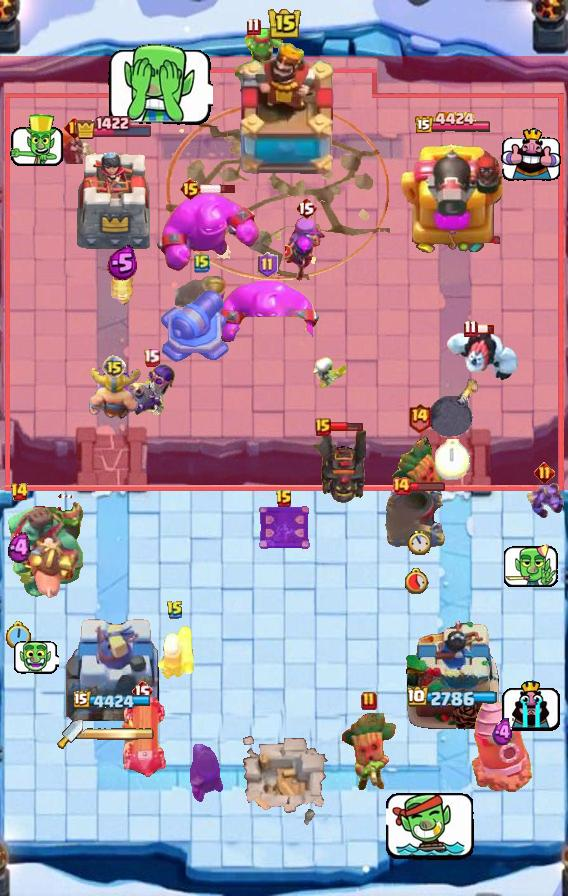archer-evolution: (308, 424, 366, 506)
baby-dragon: (427, 377, 478, 439)
bar: (66, 611, 162, 731)
battle-healer: (115, 697, 169, 779)
bomb-tower: (175, 274, 229, 328), (190, 742, 226, 802)
clone: (153, 191, 261, 273), (211, 280, 323, 346)
electro-spirit: (107, 245, 138, 281), (8, 532, 31, 564), (492, 717, 514, 746)
elixir: (435, 440, 470, 481), (6, 621, 32, 651), (403, 566, 429, 593), (409, 530, 432, 555)
emote: (200, 183, 237, 195), (328, 421, 364, 433), (409, 481, 446, 492), (475, 323, 495, 335)
freeze: (25, 532, 83, 604)
giant-snowball: (243, 25, 283, 75)
goblin-ball: (124, 362, 178, 418)
goblin-barrel: (340, 713, 398, 793), (390, 434, 448, 510)
goblin-giant: (86, 368, 142, 422)
guard: (166, 101, 390, 280)
heal-spirit: (312, 357, 348, 389)
hog-rider: (52, 126, 122, 182)
ice-spirit-evolution: (108, 270, 136, 306)
ice-spirit-evolution-symbol: (257, 502, 311, 552)
king-tower: (228, 41, 340, 181)
king-tower-bar: (83, 727, 155, 741)
lava-hound: (0, 491, 88, 601)
magic-archer: (470, 697, 536, 795)
musketeer: (385, 483, 447, 551)
queen-tower: (404, 617, 502, 731), (71, 144, 157, 255)
rage: (444, 325, 520, 381)
rascal-girl: (285, 216, 327, 282)
royal-delivery: (522, 481, 566, 519)
royal-recruit: (158, 284, 232, 370)
selected: (408, 686, 501, 710), (74, 115, 154, 140), (414, 112, 492, 137), (73, 691, 154, 713)
skeleton: (107, 42, 213, 126), (386, 790, 477, 864), (501, 676, 561, 731), (501, 128, 561, 182), (7, 114, 64, 169), (504, 540, 561, 590), (13, 641, 59, 675)
text: (408, 403, 433, 434), (102, 355, 126, 379), (257, 252, 279, 278), (178, 177, 201, 201), (295, 196, 317, 220), (131, 679, 153, 703), (64, 117, 85, 139), (534, 462, 555, 483), (391, 476, 411, 496), (10, 482, 29, 502), (275, 489, 293, 509), (166, 600, 184, 620), (144, 349, 161, 368), (194, 253, 210, 273), (361, 691, 377, 711), (315, 418, 331, 436), (463, 318, 477, 337), (247, 17, 261, 35)
tombstone: (154, 623, 196, 681)
tower-bar: (399, 138, 507, 256)
